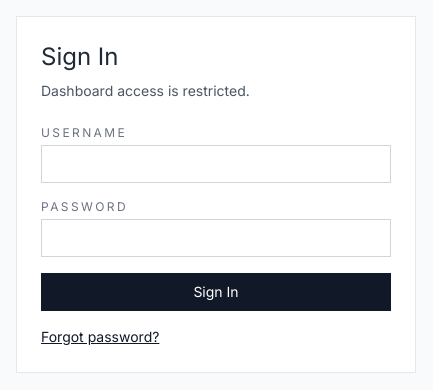
it: Password recovery › offers recovery outside the login gate
Click the link "Forgot password?": [100, 337] box top-left (41, 327), bottom-right (159, 347)
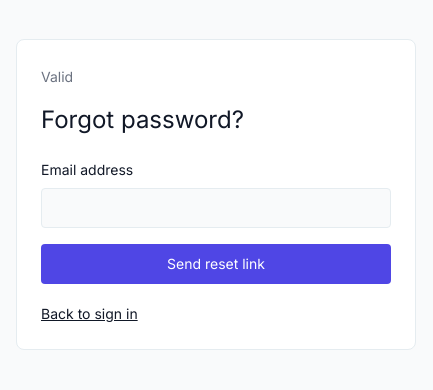
In the field labelled "Email address": [216, 208] box top-left (41, 188), bottom-right (391, 228), type "owner@example.test"
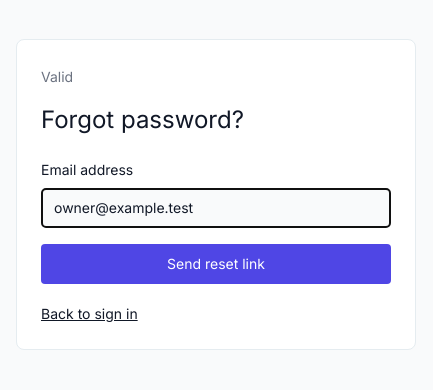
Click the button "Send reset link": [216, 264] box top-left (41, 244), bottom-right (391, 284)
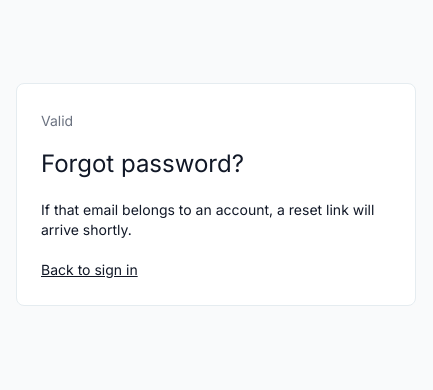
Expected: the message "If that email belongs to an account, a reset link will arrive shortly." is shown, top-left (41, 200), bottom-right (391, 240)
